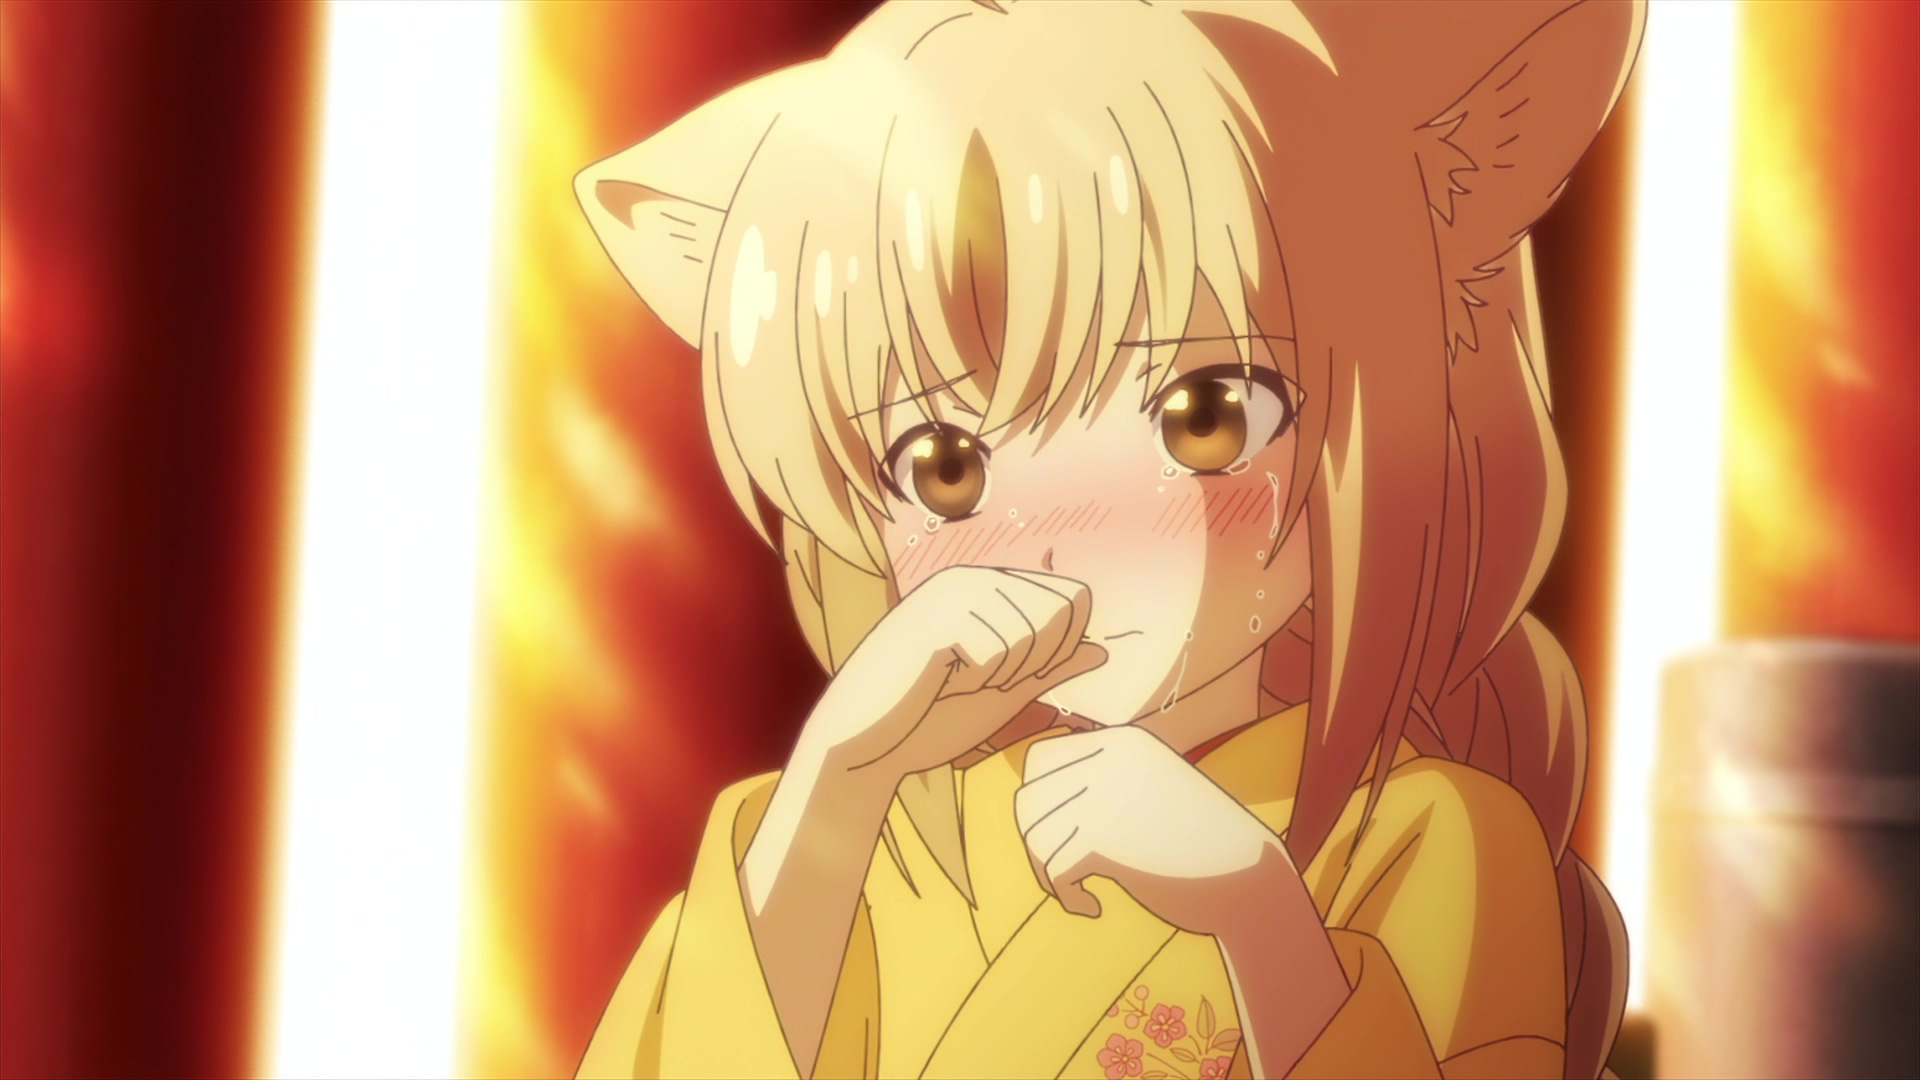柚: (570, 1, 1648, 1080)
